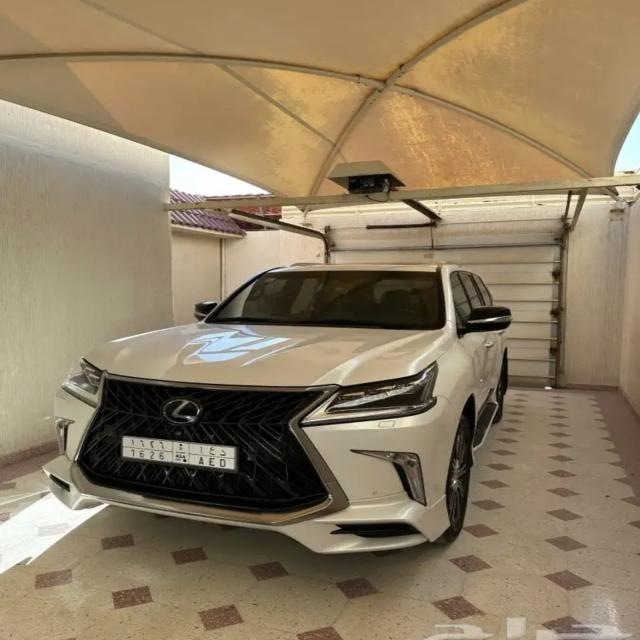license_plate: (122, 434, 236, 474)
